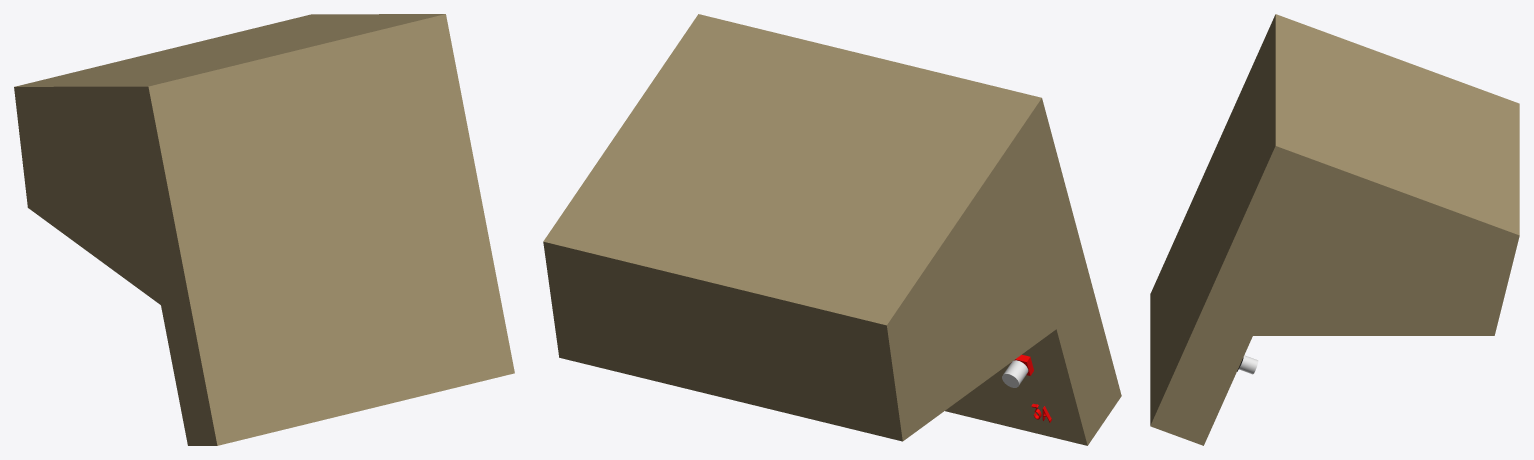
Rendered from amm.fbx.
The picture shows the model from 3 angles, left to right: view 1: azimuth 30°, elevation 25°; view 2: azimuth 150°, elevation 25°; view 3: azimuth 270°, elevation 25°; orthographic projection. The views are drawn at different scales.
Visible parts, largest first — view 1: DianLiubiao; view 2: DianLiubiao; view 3: DianLiubiao.
Boxes of the visible parts, <box> form: DianLiubiao: <box>14,14,514,445</box>; DianLiubiao: <box>543,14,1121,445</box>; DianLiubiao: <box>1150,14,1519,445</box>.
Size of the model in its own units: 100 by 106 by 118.
